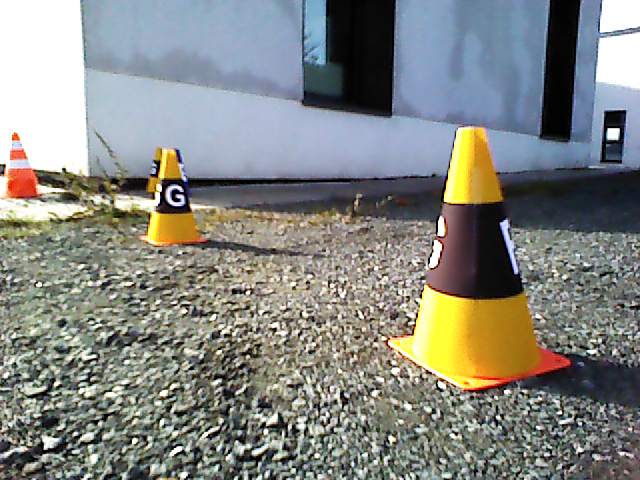orangeconesmall: (5, 133, 37, 181)
yellowcone: (416, 127, 538, 371), (149, 149, 197, 240)
